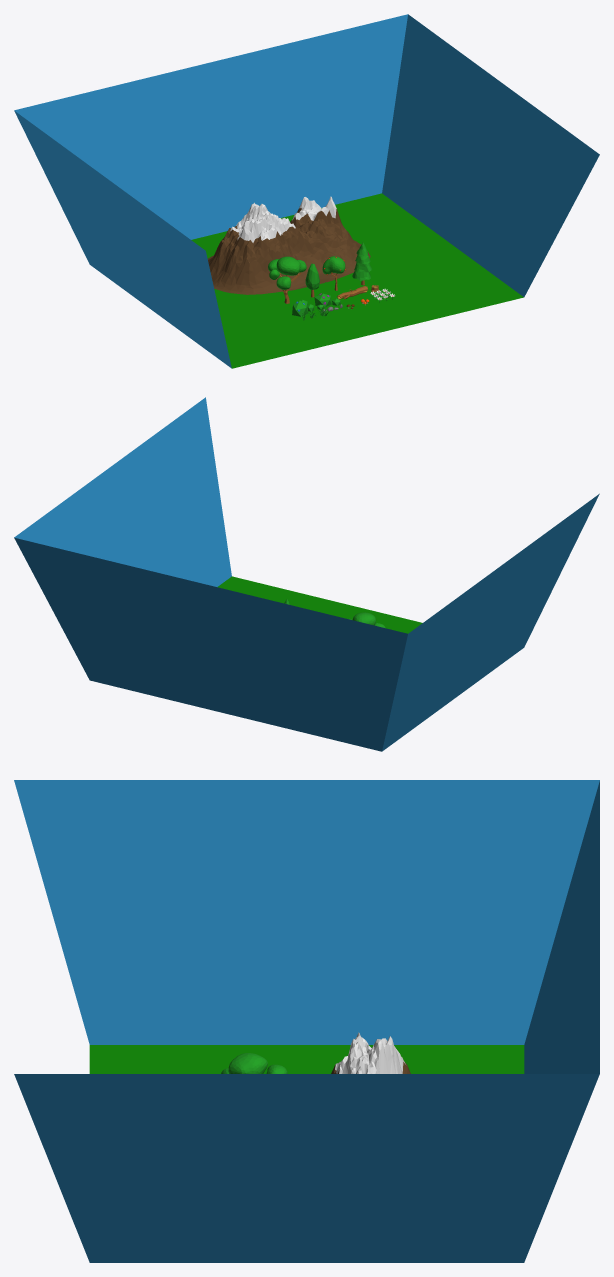
The model's file is nature_.fbx.
3 renders of one model, top to bottom at view 1: azimuth 30°, elevation 25°; view 2: azimuth 150°, elevation 25°; view 3: azimuth 270°, elevation 25°, orthographic. The views are drawn at different scales.
Parts seen in each view (by area): view 1: grass, Landscape, Plane.001, Cube.001; view 2: grass; view 3: grass, Landscape, Plane.001.
Part boxes in pixels (x1,y1,x2,y2): grass: (14, 14, 599, 368); Landscape: (207, 196, 370, 294); Plane.001: (268, 256, 306, 303); Cube.001: (352, 242, 371, 285); grass: (14, 397, 599, 751); grass: (14, 780, 599, 1262); Landscape: (331, 1032, 410, 1073); Plane.001: (221, 1053, 287, 1073).
Size of the model in its own units: 809 by 293 by 682.
